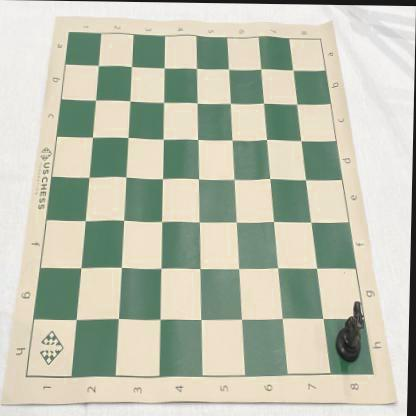black-knight: (336, 300, 366, 362)
